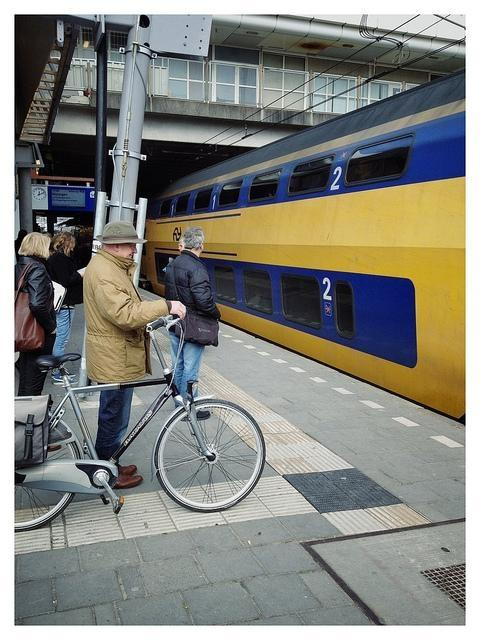bicycle: (13, 316, 269, 551)
